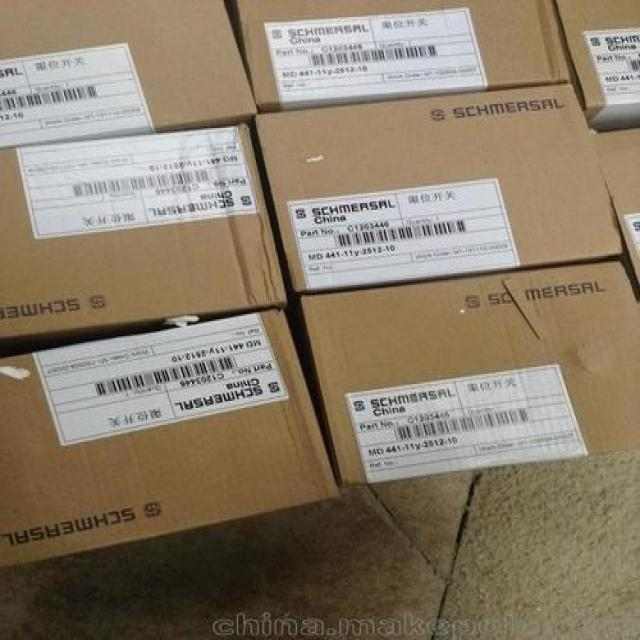box: (0, 305, 343, 570), (257, 81, 623, 293), (303, 257, 639, 486), (0, 120, 287, 357), (1, 1, 257, 153), (226, 1, 574, 108), (554, 0, 639, 128), (591, 130, 639, 305)
